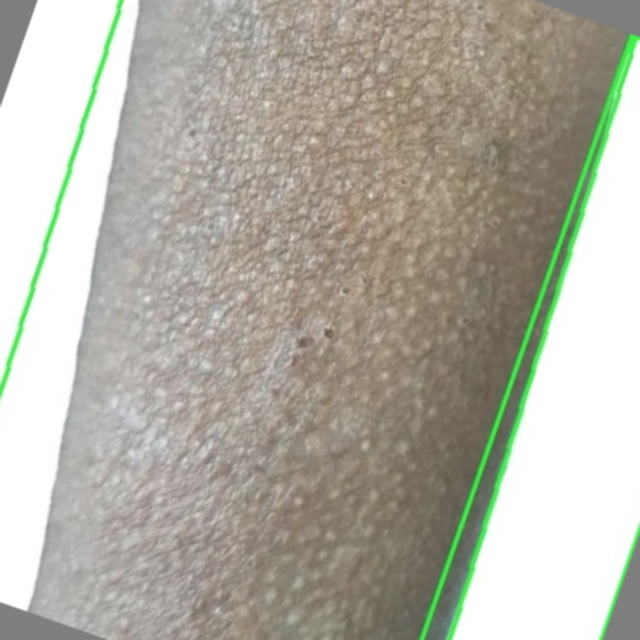Contact Dermatitis: (0, 0, 636, 639)
